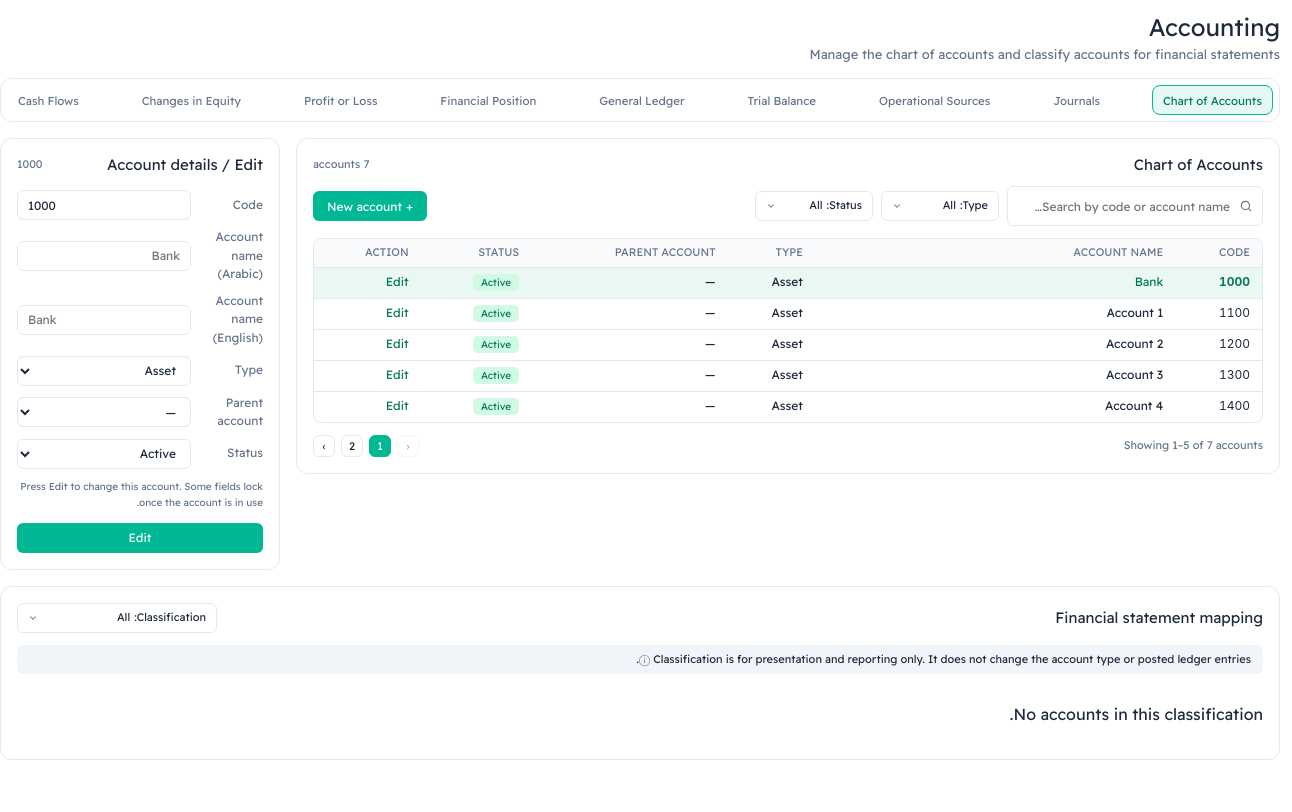
Test: Accounting chart-of-accounts workspace › drops an unsaved draft when the shown account changes
Expected: the text "Bank" is shown, x1=815 y1=267 x2=1175 y2=298
Click the button "Edit" below "Account name (English)" at (140, 538), box x1=17 y1=523 x2=263 y2=553
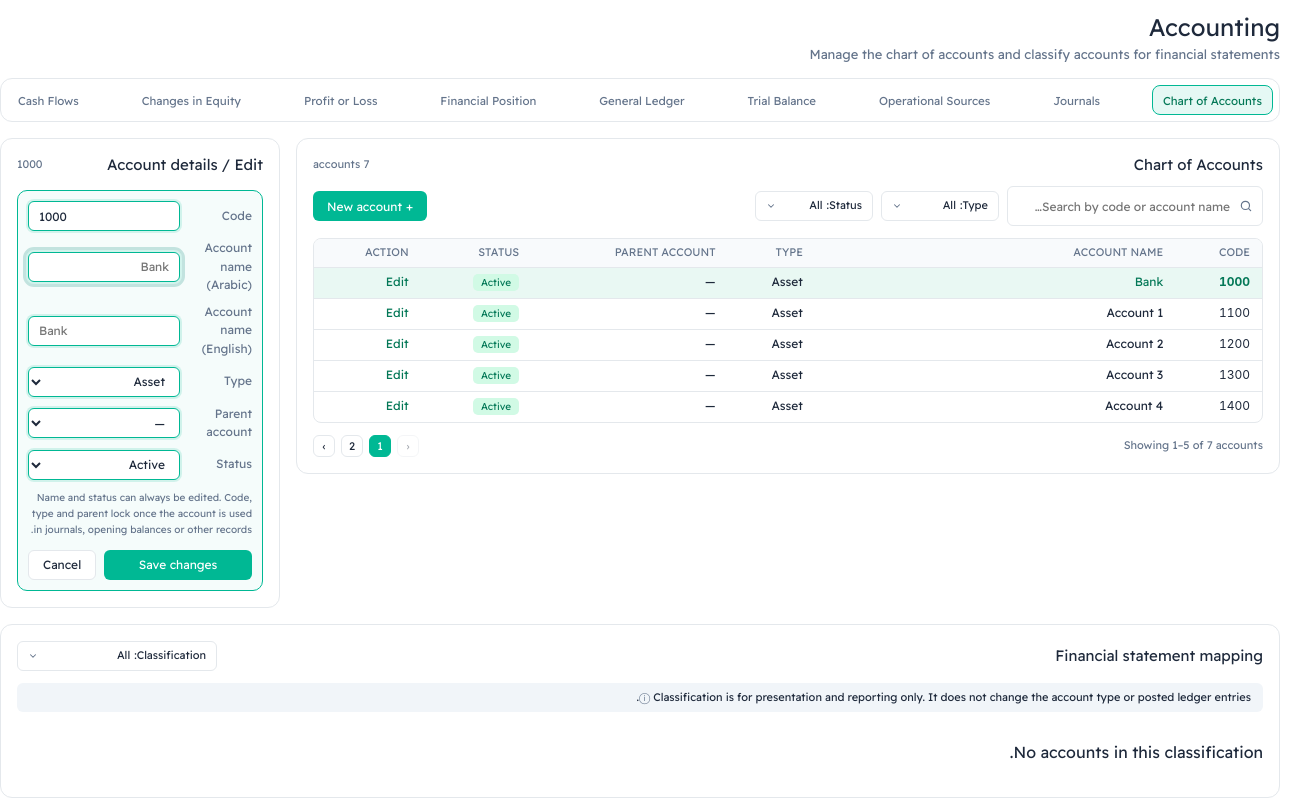
Type "Draft" into the field labelled "Account name (Arabic)" at (104, 267), box x1=28 y1=252 x2=180 y2=282
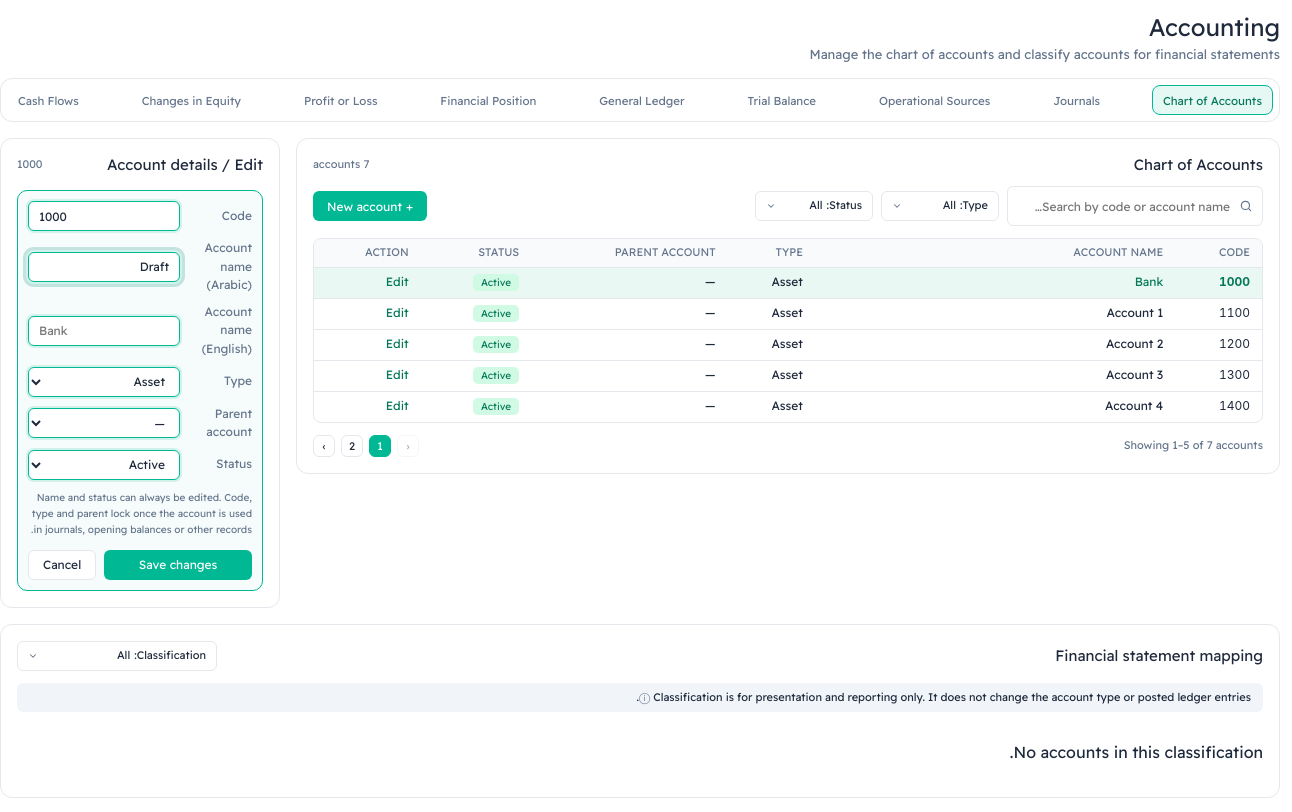
Click the button "2" at (352, 446), box x1=341 y1=435 x2=363 y2=457
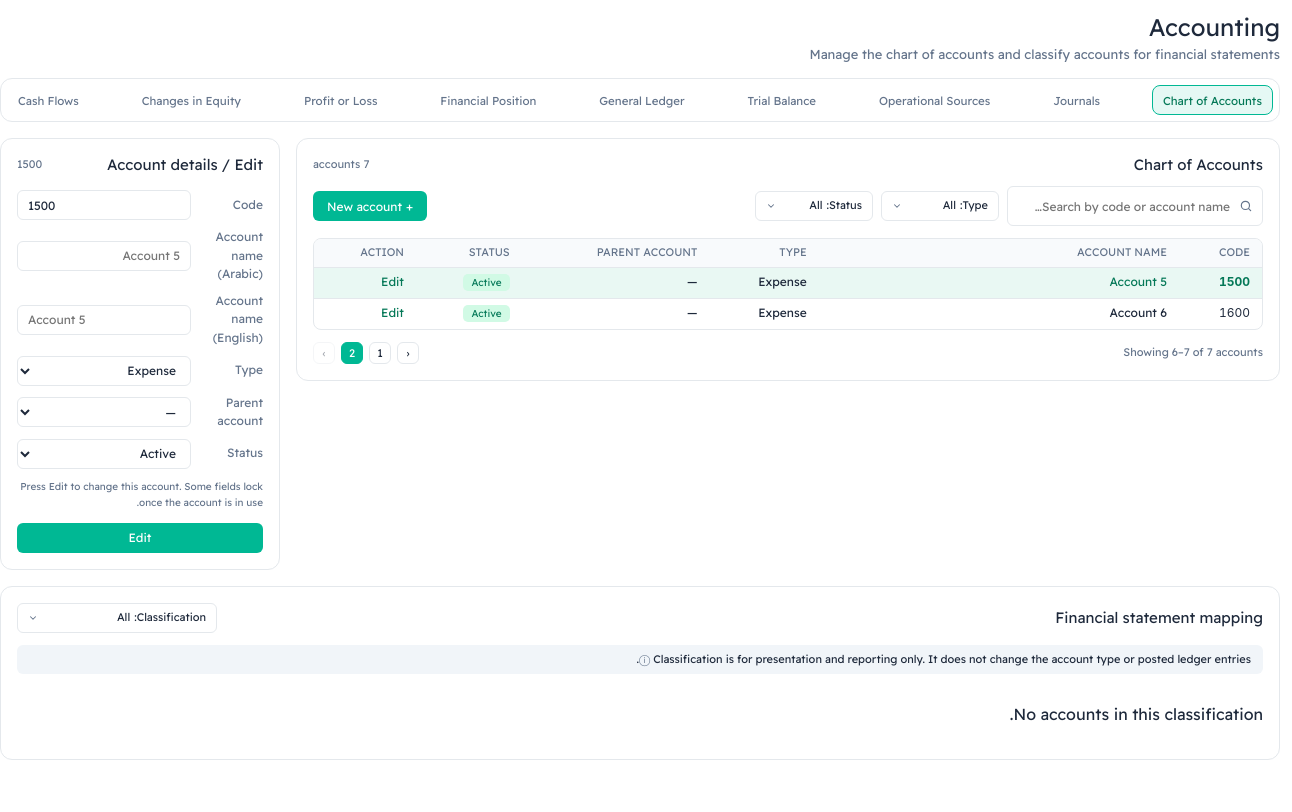
Expected: the field showing "Draft" is not shown
Expected: the button "Edit" below "Account name (English)" is shown, x1=17 y1=523 x2=263 y2=553
